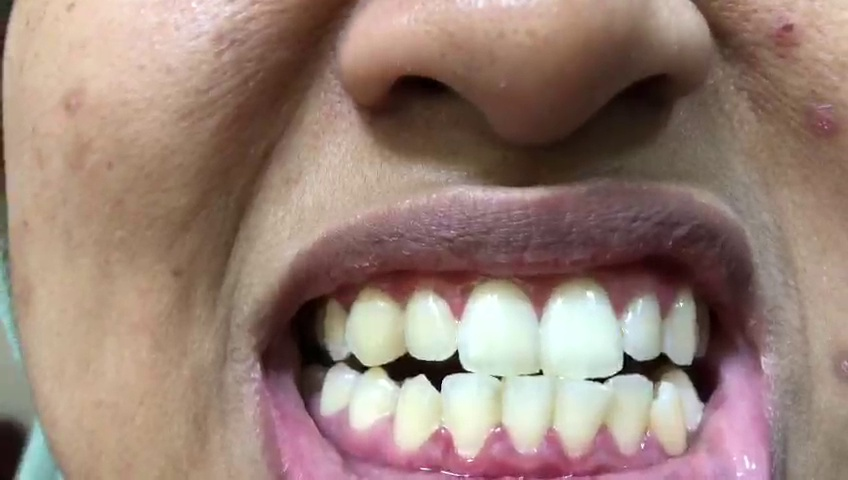1st Premolar: (349, 369, 395, 431), (664, 369, 705, 432), (319, 298, 350, 358)
2nd Premolar: (321, 363, 355, 417)
Canine: (344, 290, 405, 365), (394, 374, 443, 450), (654, 378, 689, 459), (663, 290, 696, 362)
Central Incisor: (456, 276, 540, 376), (543, 277, 621, 379), (554, 377, 609, 463), (498, 376, 553, 457)
Lateral Incisor: (440, 371, 499, 459), (407, 286, 461, 362), (607, 374, 652, 456), (618, 295, 664, 360)
